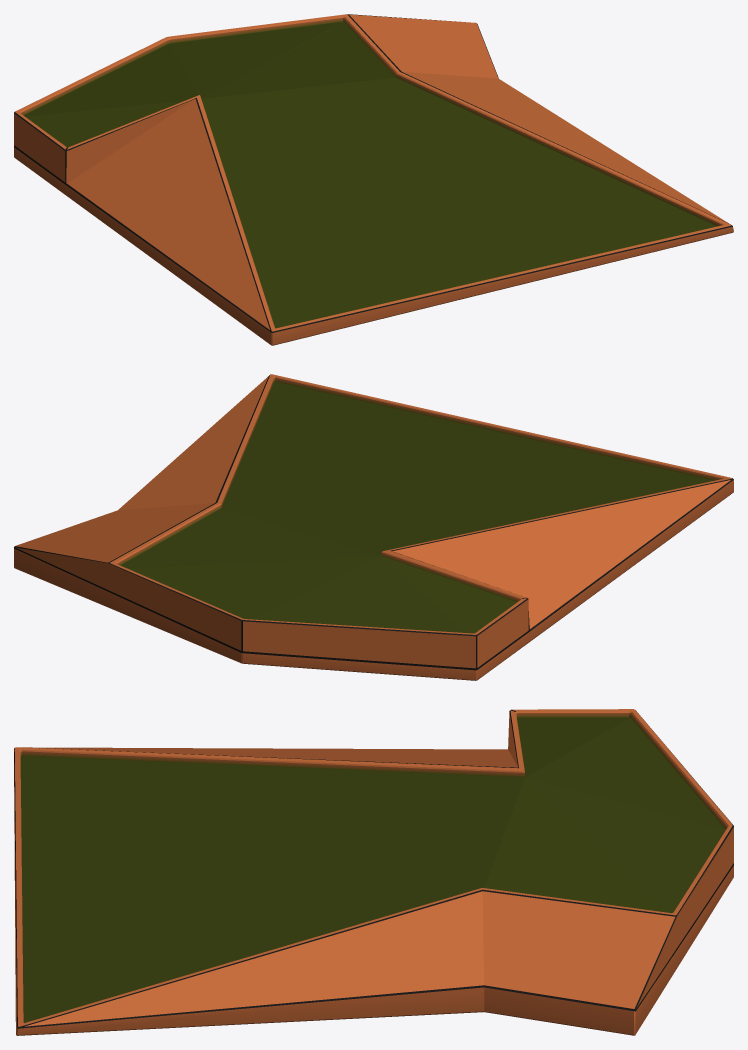
File: W_O_Deco_Glassbed_L0.fbx
3 views of the same model, one above another, from view 1: azimuth 30°, elevation 25°; view 2: azimuth 150°, elevation 25°; view 3: azimuth 270°, elevation 25° (orthographic). The views are drawn at different scales.
Parts seen in each view (by area): view 1: W_O_Deco_Glassbed_L0; view 2: W_O_Deco_Glassbed_L0; view 3: W_O_Deco_Glassbed_L0.
Boxes of the visible parts, x1,y1,x2,y2 form: W_O_Deco_Glassbed_L0: (14,14,733,345); W_O_Deco_Glassbed_L0: (14,374,733,680); W_O_Deco_Glassbed_L0: (14,709,733,1035).
Bounding box in the file's own units: 4.99 × 5.57 × 0.6383.
